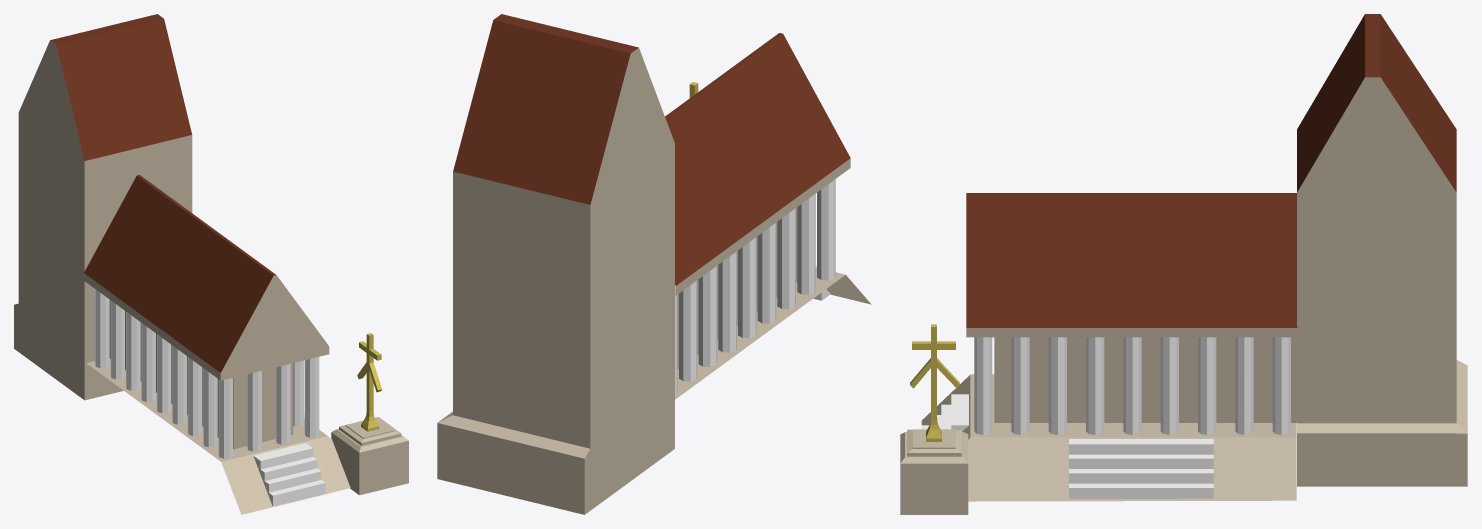
File: church_temple.fbx
3 renders of one model, left to right at view 1: azimuth 30°, elevation 25°; view 2: azimuth 150°, elevation 25°; view 3: azimuth 270°, elevation 25°, orthographic. The views are drawn at different scales.
Parts seen in each view (by area): view 1: Cube, Cylinder, Cube.003, Cube.002, Cube.004; view 2: Cube, Cylinder; view 3: Cube, Cylinder, Cube.001, Cube.003, Cube.004, Cube.002.
Part boxes in pixels (x1,y1,x2,y2): Cube: [14, 14, 350, 514]; Cylinder: [95, 289, 319, 458]; Cube.003: [331, 417, 408, 495]; Cube.002: [253, 443, 325, 506]; Cube.004: [357, 333, 382, 431]; Cube: [437, 14, 871, 514]; Cylinder: [675, 179, 835, 394]; Cube: [921, 14, 1467, 501]; Cylinder: [974, 337, 1290, 434]; Cube.001: [1069, 439, 1213, 498]; Cube.003: [900, 429, 968, 514]; Cube.004: [910, 324, 959, 441]; Cube.002: [921, 394, 968, 431].
Size of the model in its own units: 1046 by 2091 by 2645.
